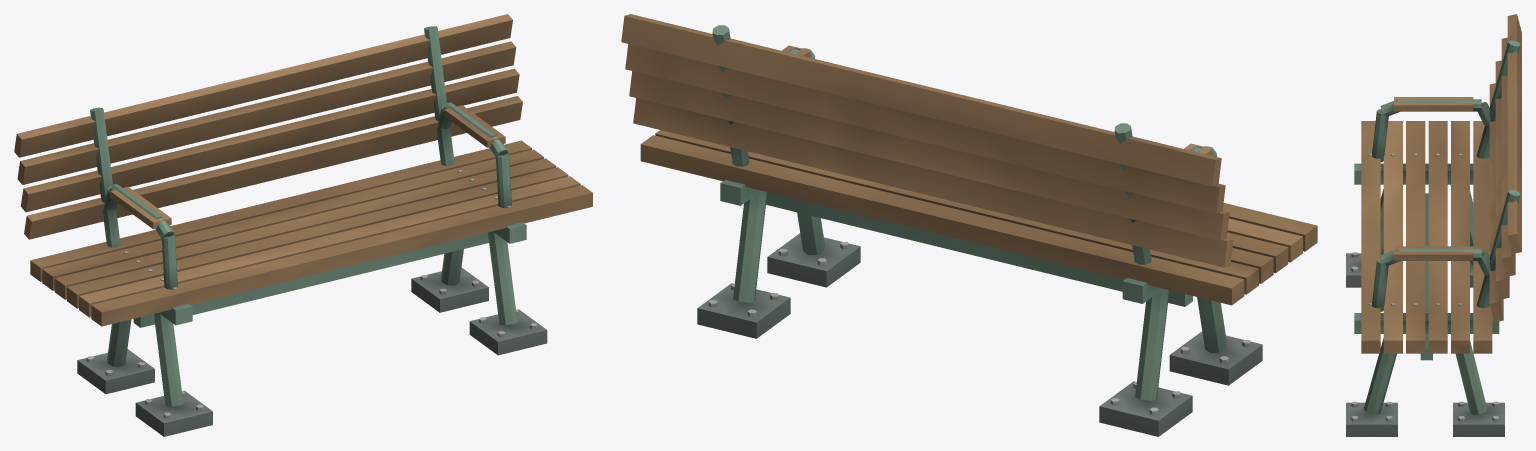
Rendered from bench.glb.
3 views of the same model, side by side, from view 1: azimuth 30°, elevation 25°; view 2: azimuth 150°, elevation 25°; view 3: azimuth 270°, elevation 25° (orthographic). The views are drawn at different scales.
Visible parts, largest first — view 1: bench; view 2: bench; view 3: bench.
Boxes of the visible parts, box(x1,y1,x2,y2) form: bench: box(14, 14, 592, 436); bench: box(621, 14, 1317, 436); bench: box(1346, 14, 1521, 436).
Bounding box in the file's own units: 1.9 × 0.9458 × 0.6421.
